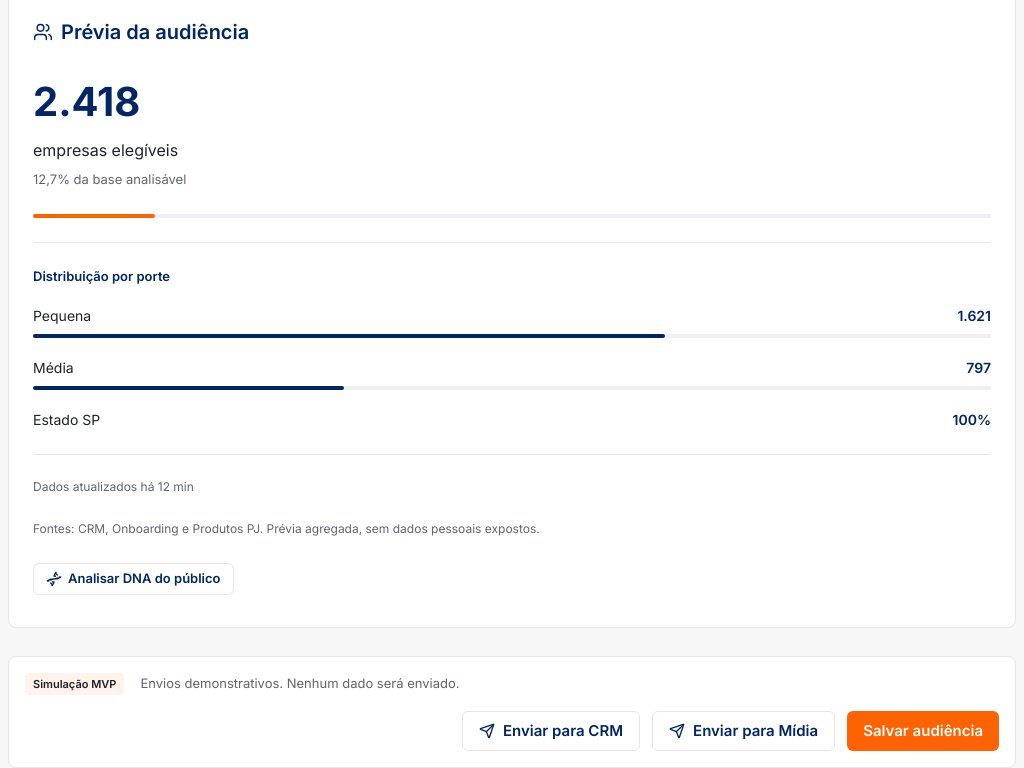
Test: AudienceBuilderPage › renders the template rules, aggregated preview from the API and simulates activation
(page scrolled)
Check: the text "2.418" is shown, box [33, 77, 140, 126]
Check: the text "12,7% da base analisável" is shown, box [33, 171, 186, 187]
Click the button "Enviar para CRM" at [551, 731], box [462, 711, 640, 751]
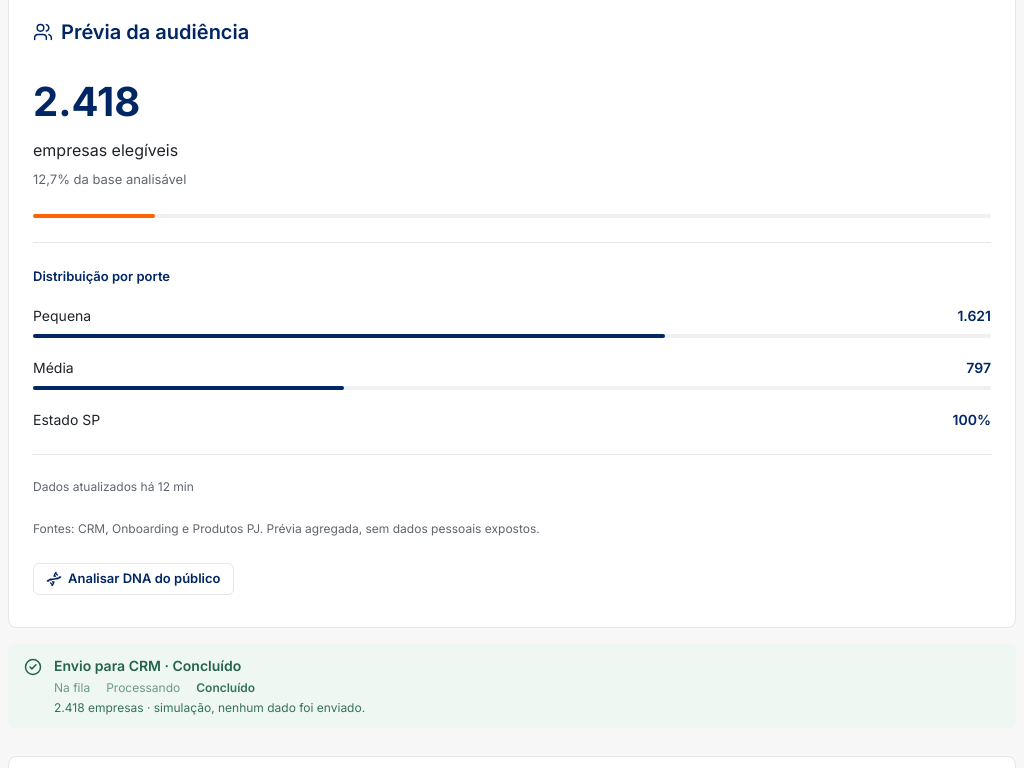
Check: the text "Envio para CRM · Concluído" is shown, box [54, 657, 241, 674]
